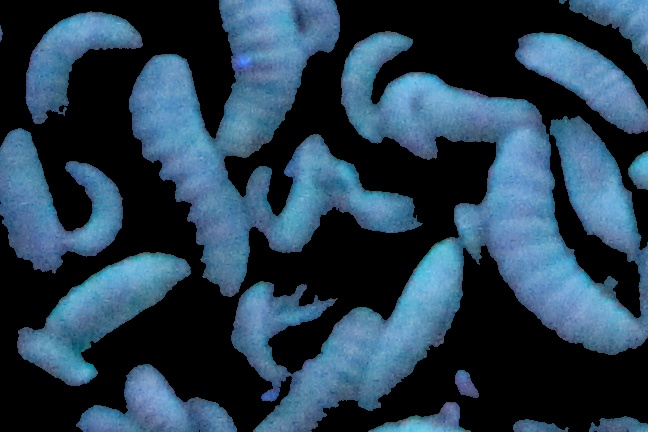larvae: (486, 128, 634, 358), (140, 51, 237, 305), (43, 254, 203, 348), (21, 6, 141, 123), (515, 29, 648, 131), (554, 111, 640, 264), (216, 1, 302, 151), (380, 246, 453, 414), (286, 308, 383, 432), (5, 139, 68, 289), (346, 35, 419, 154), (339, 164, 439, 230), (281, 133, 333, 250), (429, 92, 551, 141), (234, 285, 295, 380), (390, 71, 442, 158), (80, 158, 116, 254), (127, 370, 182, 432), (29, 332, 92, 378), (243, 161, 270, 224), (302, 1, 334, 49)
